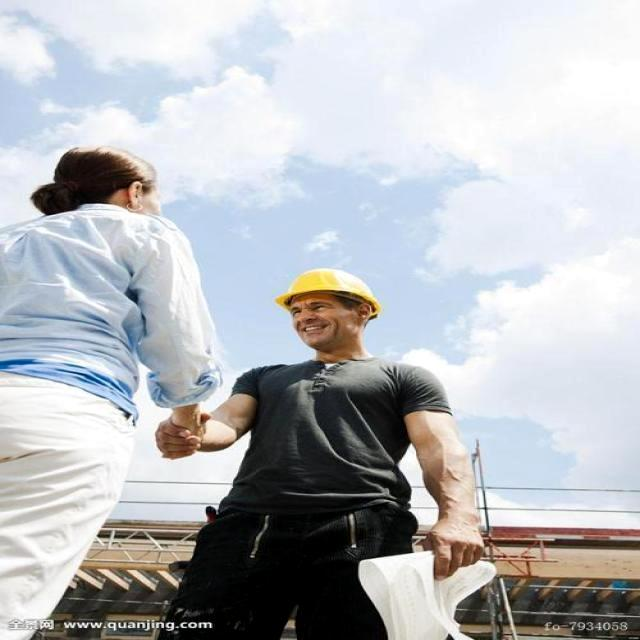hard_hat: (276, 268, 380, 317)
no_head_wear: (31, 147, 154, 214)
person: (149, 270, 482, 639), (1, 148, 226, 638)
